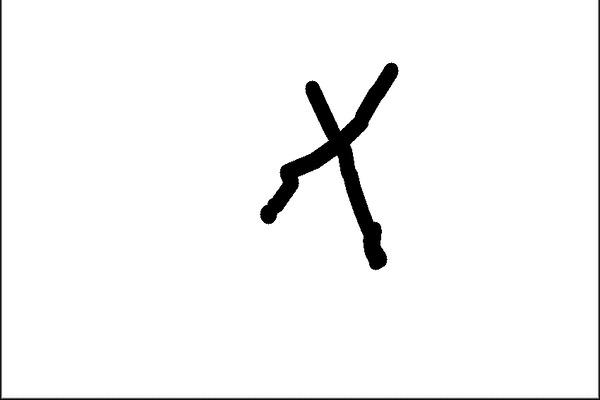X: (229, 54, 413, 280)
